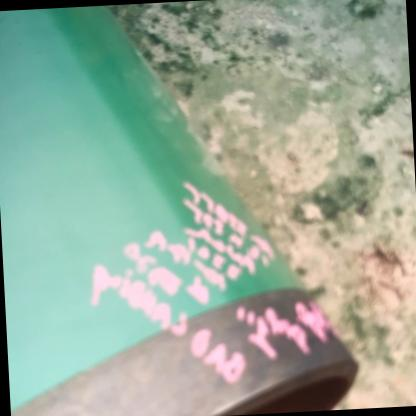Bevel: (225, 353, 287, 407)
